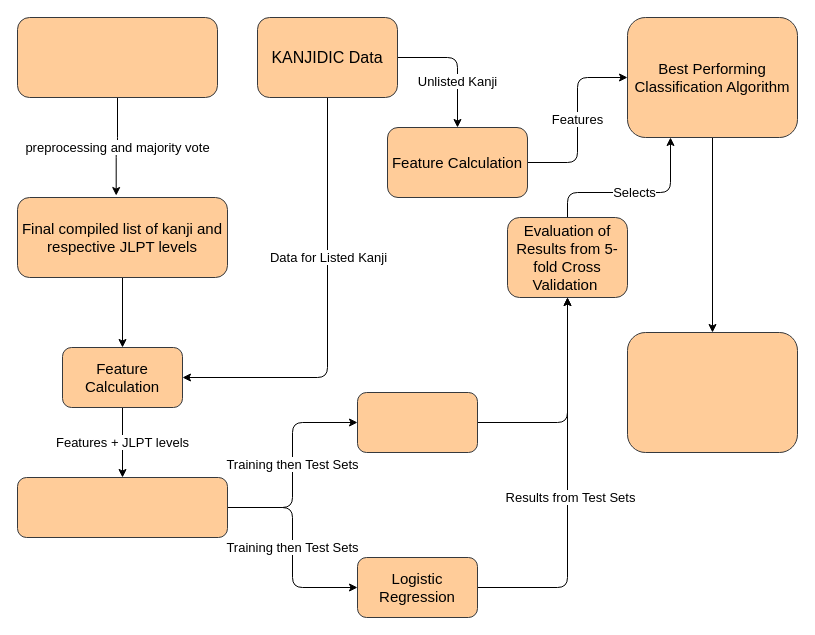
Some shapes in this 815 by 635 pixel diagram are drawn without their labels. The box of each missing label's shape, as (x1, y1, x2, y2) in pixels:
5-fold cross validation splits: (16, 476, 228, 538)
Final Output List with Kanji and Predicted JLPT Levels: (626, 332, 798, 452)
JLPT Kanji Lists from online resources: (16, 16, 218, 98)
SVMs: (356, 392, 478, 452)
